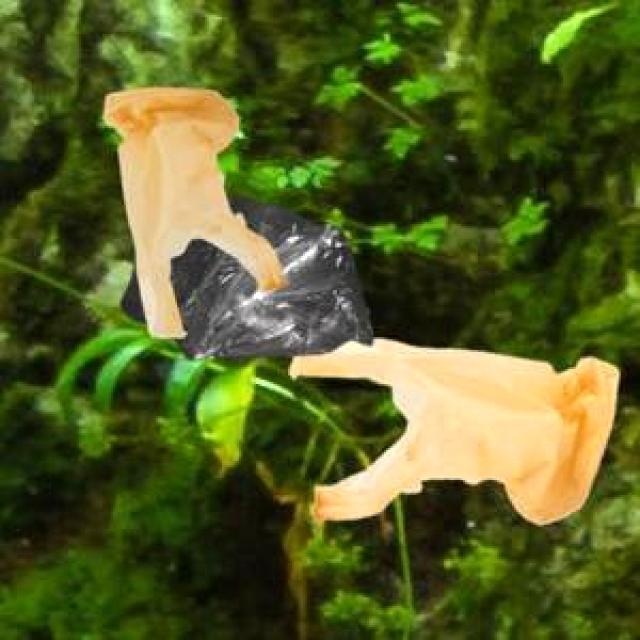Plastic_Bag: (286, 336, 616, 522), (101, 84, 283, 334), (118, 195, 370, 358)
